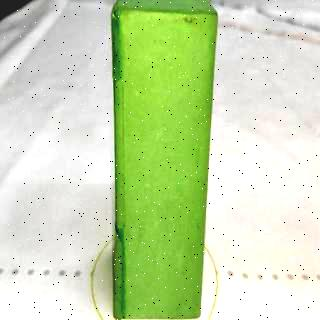greenbox: (107, 0, 222, 320)
